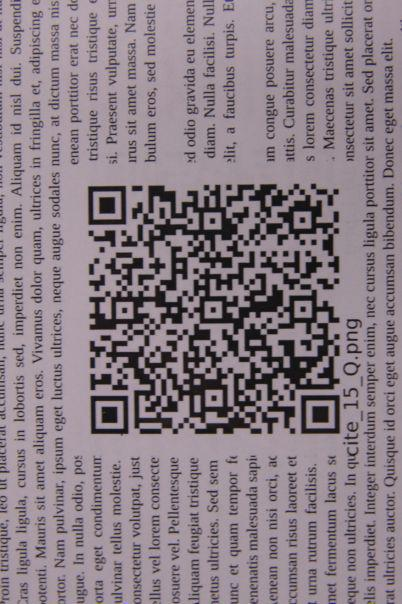Finder pattern: (84, 391, 133, 439), (299, 391, 346, 440), (84, 183, 132, 229)
